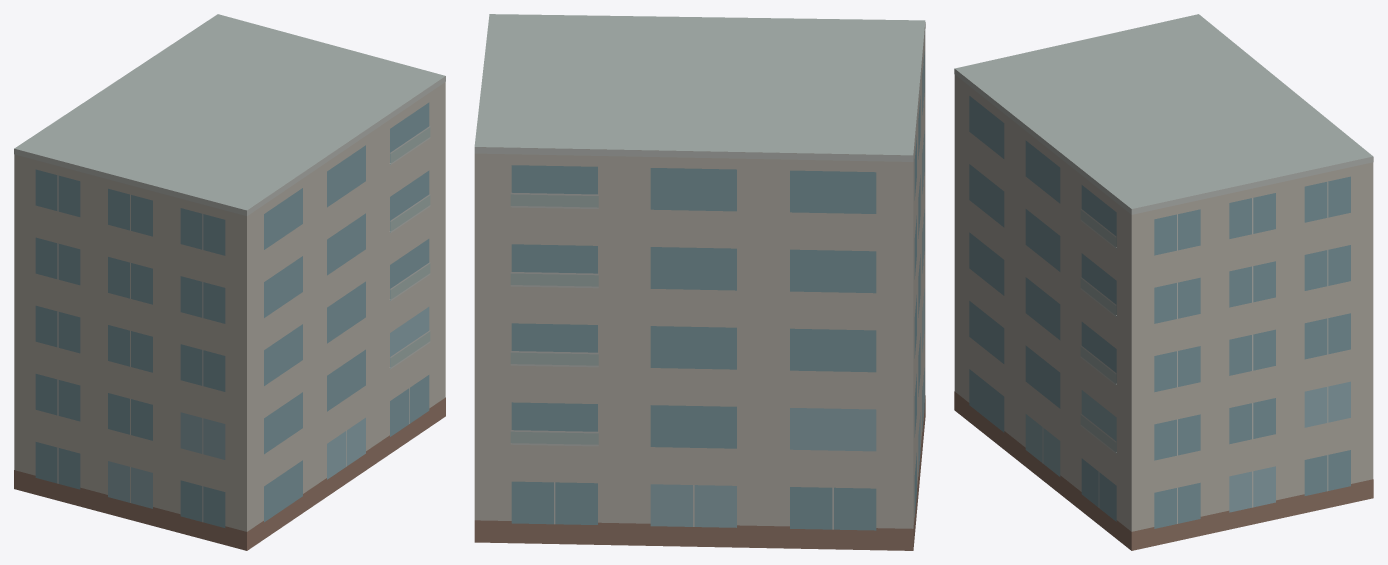
The model's file is survey-upis-32840225.glb.
3 views of the same model, side by side, from view 1: azimuth 30°, elevation 25°; view 2: azimuth 150°, elevation 25°; view 3: azimuth 270°, elevation 25° (orthographic). The views are drawn at different scales.
Parts seen in each view (by area): view 1: survey-upis-32840225.tmp; view 2: survey-upis-32840225.tmp; view 3: survey-upis-32840225.tmp.
Boxes of the visible parts, x1,y1,x2,y2 form: survey-upis-32840225.tmp: [14, 14, 445, 550]; survey-upis-32840225.tmp: [474, 14, 925, 550]; survey-upis-32840225.tmp: [954, 14, 1373, 550].
Bounding box in the file's own units: 17.7 × 14.45 × 16.06.
